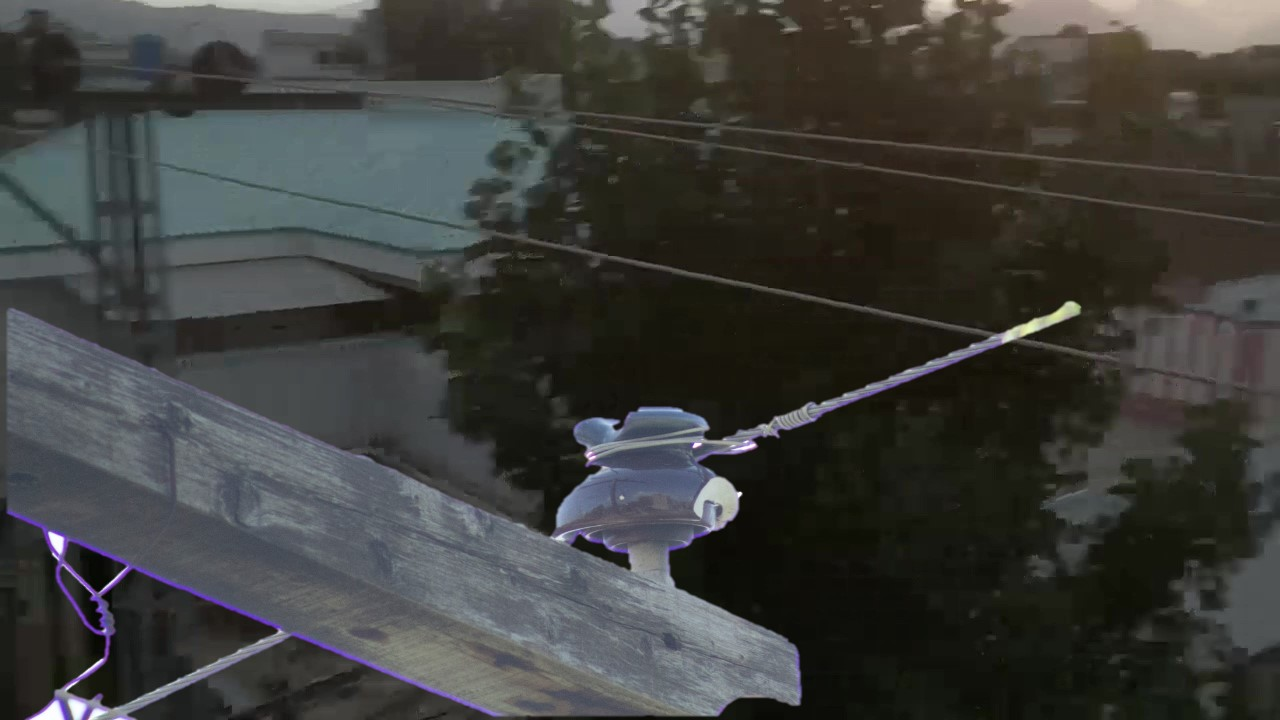defect_pin: (547, 397, 750, 572)
